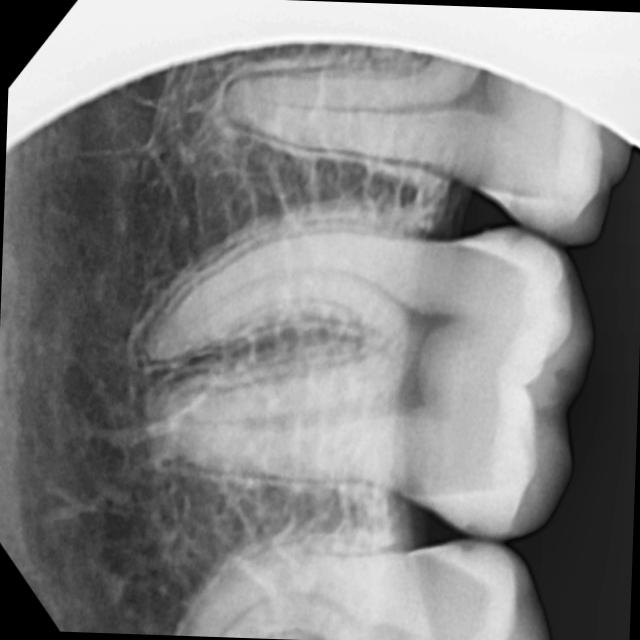Normal: (119, 211, 606, 548)
